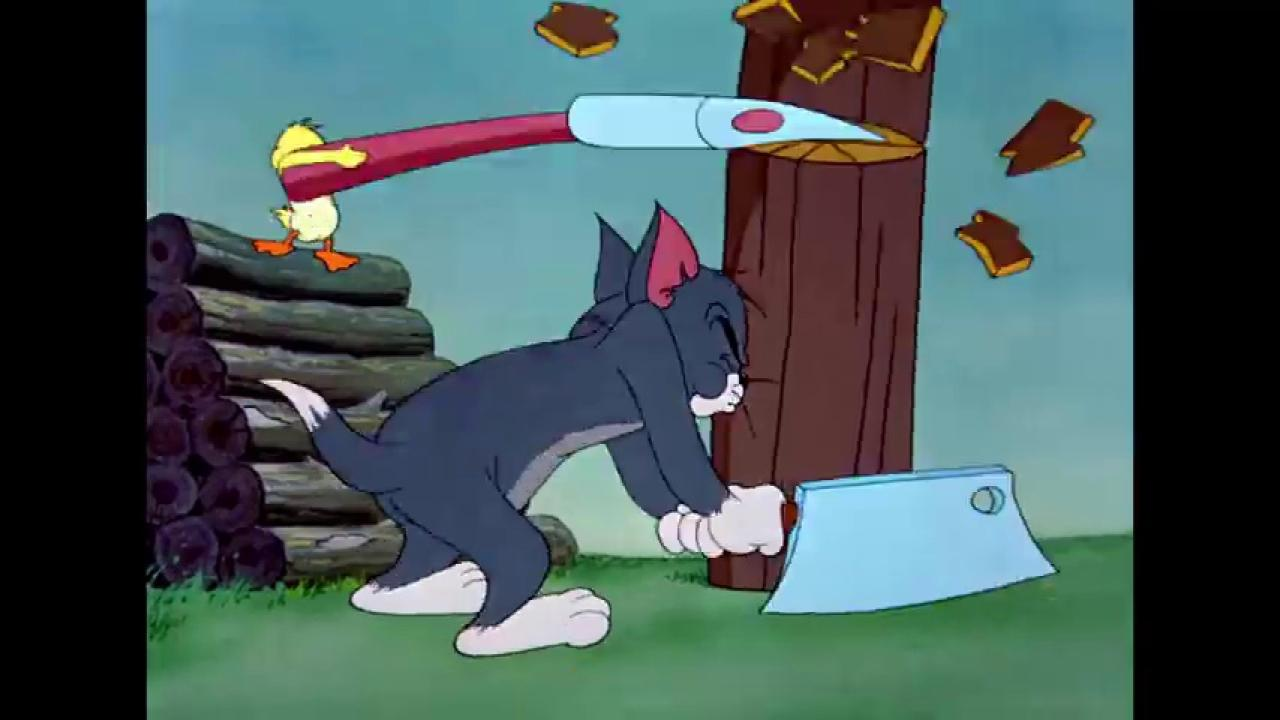Tom: (257, 197, 788, 657)
